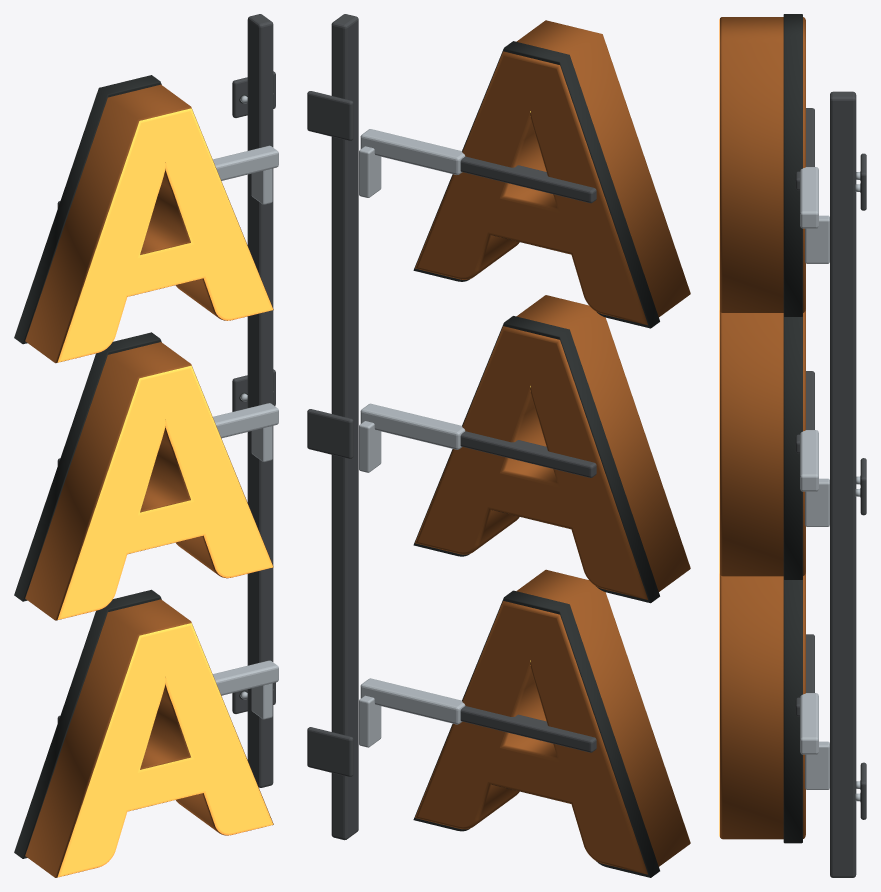
Rendered from AMIGOS_TripleA_Projected.glb.
3 views of the same model, side by side, from view 1: azimuth 30°, elevation 25°; view 2: azimuth 150°, elevation 25°; view 3: azimuth 270°, elevation 25° (orthographic). The views are drawn at different scales.
Visible parts, largest first — view 1: AMIGOS | A03 orange acrylic and return, AMIGOS | A01 orange acrylic and return, AMIGOS | A02 orange acrylic and return, AMIGOS | powdercoated vertical mounting rail, AMIGOS | A01 rear weather gasket, AMIGOS | A02 rear weather gasket, AMIGOS | A03 rear weather gasket, AMIGOS | A02 outward support arm, AMIGOS | A03 outward support arm, AMIGOS | A01 outward support arm, AMIGOS | A03 stainless gusset, AMIGOS | A01 stainless gusset (+3 smaller); view 2: AMIGOS | A01 orange acrylic and return, AMIGOS | A03 orange acrylic and return, AMIGOS | A02 orange acrylic and return, AMIGOS | powdercoated vertical mounting rail, AMIGOS | A02 rear weather gasket, AMIGOS | A03 rear weather gasket, AMIGOS | A01 rear weather gasket, AMIGOS | A03 outward support arm, AMIGOS | A02 outward support arm, AMIGOS | A01 outward support arm, AMIGOS | A01 rear brace, AMIGOS | A02 rear brace (+7 smaller); view 3: AMIGOS | powdercoated vertical mounting rail, AMIGOS | A01 orange acrylic and return, AMIGOS | A02 orange acrylic and return, AMIGOS | A03 orange acrylic and return, AMIGOS | A01 rear weather gasket, AMIGOS | A03 rear weather gasket, AMIGOS | A02 rear weather gasket, AMIGOS | A02 outward support arm, AMIGOS | A03 outward support arm, AMIGOS | A01 outward support arm, AMIGOS | A02 stainless gusset, AMIGOS | A03 stainless gusset (+7 smaller).
Boxes of the visible parts, x1=… form: AMIGOS | A03 orange acrylic and return: x1=25, y1=599, x2=273, y2=877; AMIGOS | A01 orange acrylic and return: x1=25, y1=84, x2=273, y2=363; AMIGOS | A02 orange acrylic and return: x1=25, y1=342, x2=273, y2=620; AMIGOS | powdercoated vertical mounting rail: x1=247, y1=14, x2=273, y2=787; AMIGOS | A01 rear weather gasket: x1=14, y1=75, x2=161, y2=344; AMIGOS | A02 rear weather gasket: x1=14, y1=332, x2=161, y2=601; AMIGOS | A03 rear weather gasket: x1=14, y1=589, x2=161, y2=858; AMIGOS | A02 outward support arm: x1=213, y1=403, x2=278, y2=438; AMIGOS | A03 outward support arm: x1=213, y1=660, x2=278, y2=695; AMIGOS | A01 outward support arm: x1=213, y1=145, x2=278, y2=180; AMIGOS | A03 stainless gusset: x1=251, y1=683, x2=272, y2=719; AMIGOS | A01 stainless gusset: x1=251, y1=168, x2=272, y2=204; AMIGOS | A01 orange acrylic and return: x1=415, y1=20, x2=690, y2=325; AMIGOS | A03 orange acrylic and return: x1=415, y1=569, x2=690, y2=874; AMIGOS | A02 orange acrylic and return: x1=415, y1=295, x2=690, y2=599; AMIGOS | powdercoated vertical mounting rail: x1=331, y1=14, x2=358, y2=840; AMIGOS | A02 rear weather gasket: x1=413, y1=316, x2=659, y2=603; AMIGOS | A03 rear weather gasket: x1=413, y1=590, x2=659, y2=877; AMIGOS | A01 rear weather gasket: x1=413, y1=41, x2=659, y2=328; AMIGOS | A03 outward support arm: x1=360, y1=678, x2=465, y2=724; AMIGOS | A02 outward support arm: x1=360, y1=403, x2=465, y2=449; AMIGOS | A01 outward support arm: x1=360, y1=129, x2=465, y2=174; AMIGOS | A01 rear brace: x1=460, y1=156, x2=596, y2=203; AMIGOS | A02 rear brace: x1=460, y1=431, x2=596, y2=477; AMIGOS | powdercoated vertical mounting rail: x1=830, y1=91, x2=856, y2=877; AMIGOS | A01 orange acrylic and return: x1=719, y1=17, x2=805, y2=312; AMIGOS | A02 orange acrylic and return: x1=719, y1=309, x2=805, y2=576; AMIGOS | A03 orange acrylic and return: x1=719, y1=572, x2=805, y2=839; AMIGOS | A01 rear weather gasket: x1=783, y1=14, x2=802, y2=316; AMIGOS | A03 rear weather gasket: x1=783, y1=580, x2=802, y2=843; AMIGOS | A02 rear weather gasket: x1=783, y1=316, x2=802, y2=579; AMIGOS | A02 outward support arm: x1=800, y1=430, x2=818, y2=491; AMIGOS | A03 outward support arm: x1=800, y1=693, x2=818, y2=754; AMIGOS | A01 outward support arm: x1=800, y1=167, x2=818, y2=228; AMIGOS | A02 stainless gusset: x1=805, y1=478, x2=829, y2=526; AMIGOS | A03 stainless gusset: x1=805, y1=741, x2=829, y2=789.
Size of the model in its own units: 1.33 by 3.34 by 0.5722.
